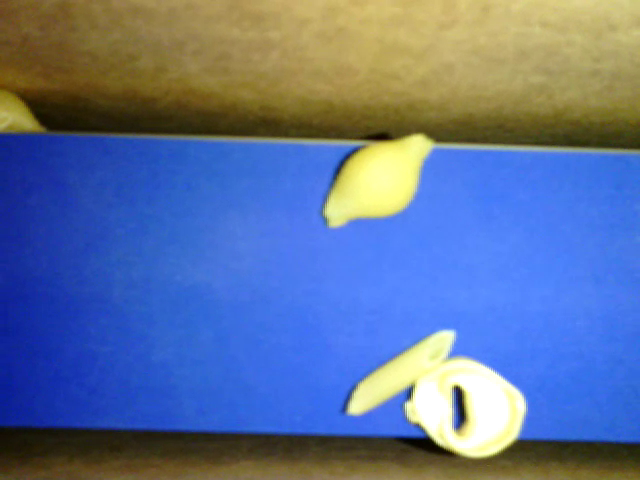elbow: (1, 108, 12, 129)
penne: (346, 328, 456, 413)
shell: (321, 131, 435, 229), (1, 89, 46, 132)
tortellini: (402, 353, 528, 456)
